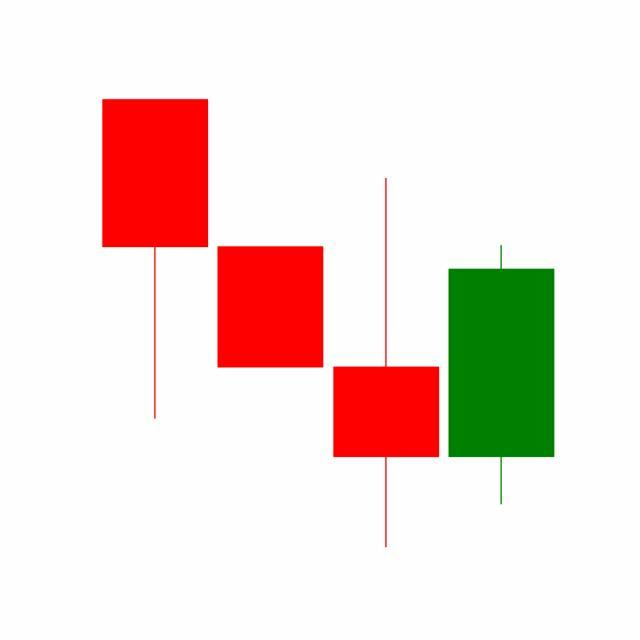Spinning Top: (329, 174, 445, 552)
